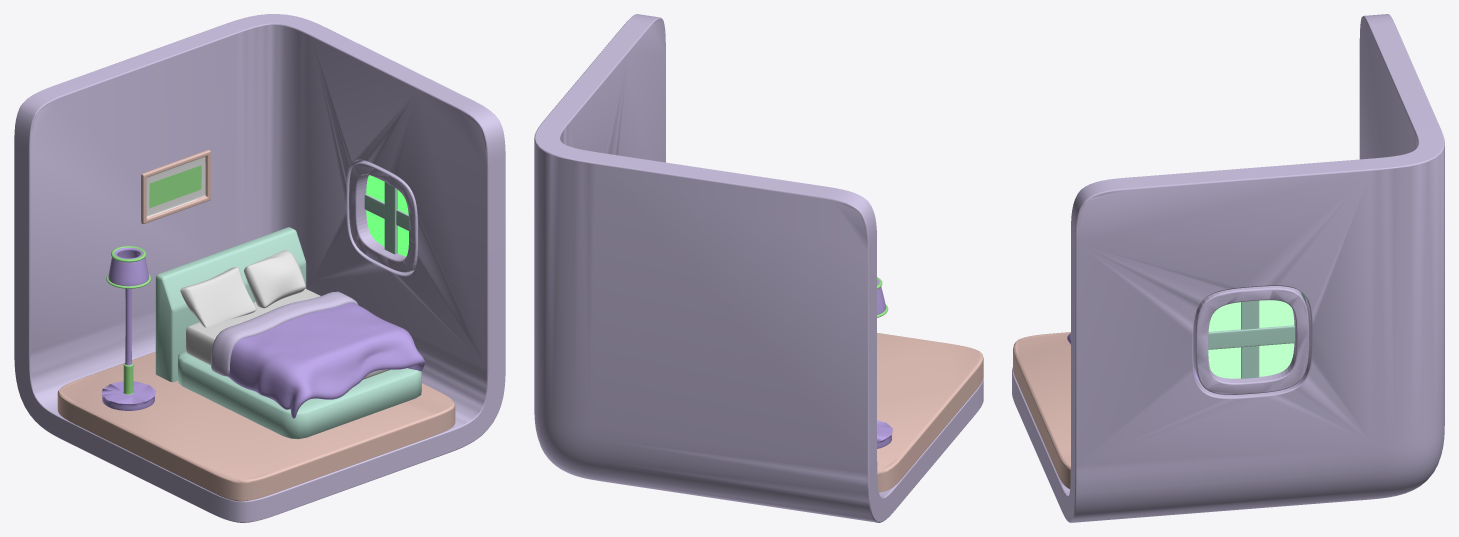
The model's file is room.glb.
3 views of the same model, side by side, from view 1: azimuth 30°, elevation 25°; view 2: azimuth 150°, elevation 25°; view 3: azimuth 270°, elevation 25° (orthographic). The views are drawn at different scales.
Parts seen in each view (by area): view 1: 箱; view 2: 箱; view 3: 箱.
Boxes of the visible parts, x1,y1,x2,y2 form: 箱: (14,14,505,522); 箱: (534,14,983,522); 箱: (1012,14,1444,522).
Size of the model in its own units: 1 by 0.8594 by 0.9607.
